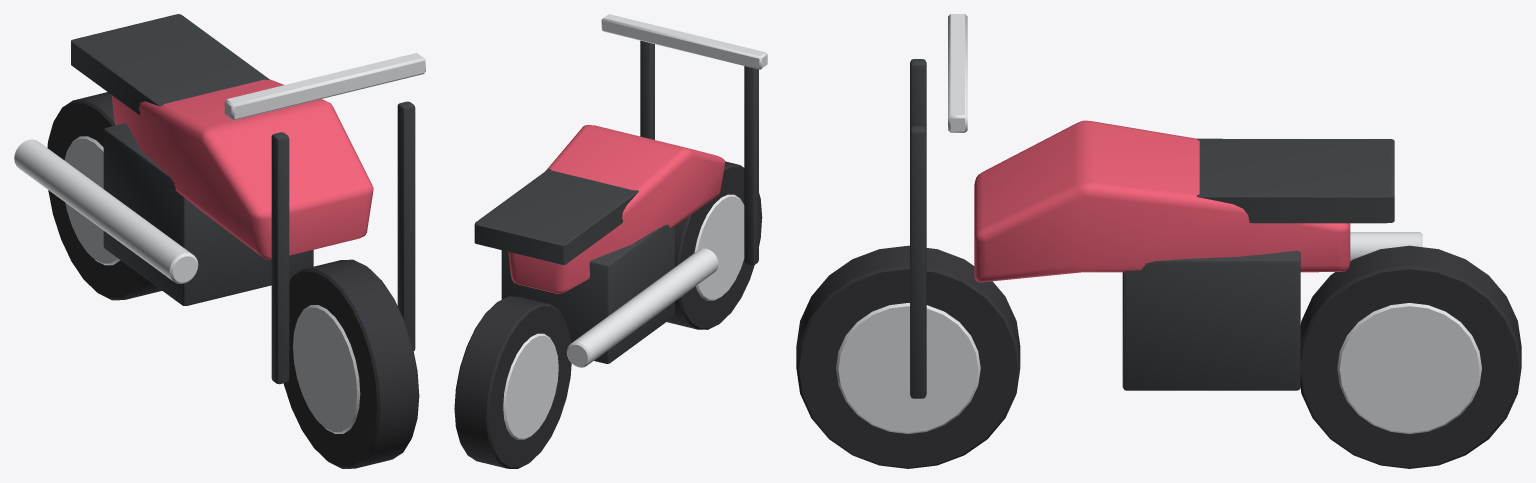
Rendered from phantom-racer.glb.
3 renders of one model, left to right at view 1: azimuth 30°, elevation 25°; view 2: azimuth 150°, elevation 25°; view 3: azimuth 270°, elevation 25°, orthographic. The views are drawn at different scales.
Visible parts, largest first — view 1: trim, paint, tyre, rim; view 2: trim, tyre, rim, paint; view 3: tyre, trim, paint, rim.
Boxes of the visible parts, x1,y1,x2,y2 form: trim: (71,14,415,384); paint: (112,79,373,259); tyre: (47,92,419,468); rim: (14,53,425,433); trim: (474,40,758,363); tyre: (454,161,762,468); rim: (503,14,767,440); paint: (508,125,724,293); tyre: (796,245,1521,468); trim: (910,59,1394,398); paint: (974,120,1350,282); rim: (836,14,1481,433).
Bounding box in the file's own units: 0.745 × 1.32 × 2.2.
